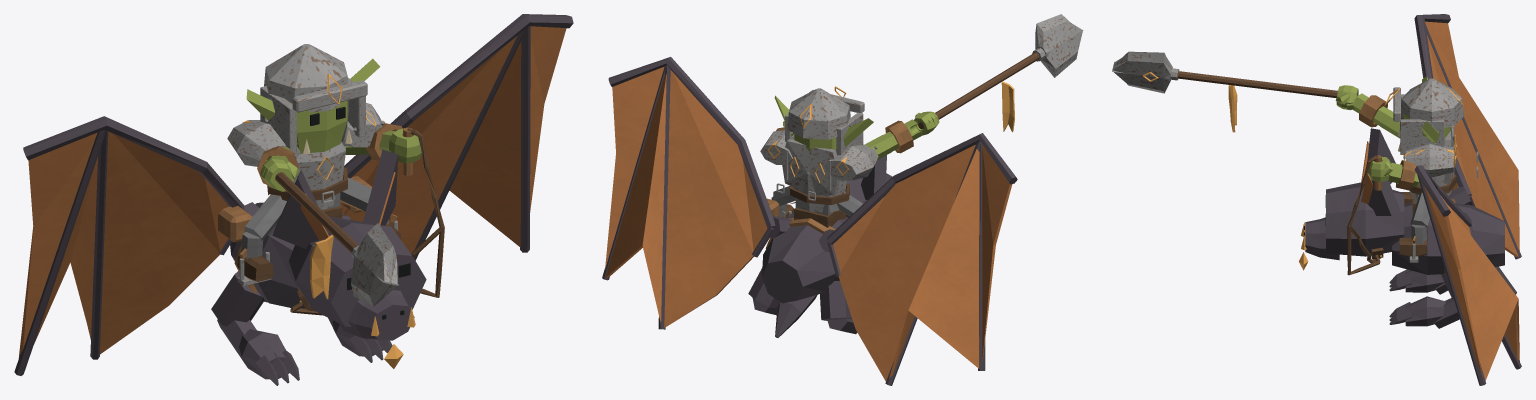
Rendered from host_42.glb.
The picture shows the model from 3 angles, left to right: view 1: azimuth 30°, elevation 25°; view 2: azimuth 150°, elevation 25°; view 3: azimuth 270°, elevation 25°; orthographic projection. The views are drawn at different scales.
Parts seen in each view (by area): view 1: Bat source connected muzzle, skull, native limbs and membran, Rider one connected body, skull, ears, two arms, compact pal, Rider actual source eight-plane pointed helmet, Rider long forward lance tip real volumetric blade, Rider real shaped source torso clothing shell, Rider actual convex three-plane source pauldron 1, Rider actual continuous source forehead brow band, Rider flat helmet cheek edge 1, Rider full long forward lance handle, Source actual orange lance pennant, Rider compact source saddle pouch 1, Rider connected bridle rein 1 (+5 smaller); view 2: Bat source connected muzzle, skull, native limbs and membran, Rider one connected body, skull, ears, two arms, compact pal, Rider actual source eight-plane pointed helmet, Rider long forward lance tip real volumetric blade, Rider actual source broad rear leather pack, Rider actual convex three-plane source pauldron 1, Rider full long forward lance handle, Rider actual convex three-plane source pauldron -1, Rider real shaped source torso clothing shell, Source actual orange lance pennant, Rider flat helmet cheek edge 1, Rider real narrow closed angular source waist belt (+2 smaller); view 3: Bat source connected muzzle, skull, native limbs and membran, Rider one connected body, skull, ears, two arms, compact pal, Rider actual source eight-plane pointed helmet, Rider long forward lance tip real volumetric blade, Rider full long forward lance handle, Rider actual convex three-plane source pauldron -1, Rider flat helmet cheek edge -1, Rider RIGHT actual open sleeve cuff, Rider connected bridle rein -1, Rider LEFT actual open sleeve cuff, Rider connected bridle rein 1.
Boxes of the visible parts, x1,y1,x2,y2 form: Bat source connected muzzle, skull, native limbs and membran: (14, 14, 573, 385); Rider one connected body, skull, ears, two arms, compact pal: (237, 58, 421, 281); Rider actual source eight-plane pointed helmet: (264, 44, 348, 112); Rider long forward lance tip real volumetric blade: (351, 223, 398, 306); Rider real shaped source torso clothing shell: (293, 140, 345, 210); Rider actual convex three-plane source pauldron 1: (227, 120, 300, 166); Rider actual continuous source forehead brow band: (292, 80, 367, 112); Rider flat helmet cheek edge 1: (260, 86, 296, 153); Rider full long forward lance handle: (275, 172, 358, 252); Source actual orange lance pennant: (310, 235, 333, 299); Rider compact source saddle pouch 1: (218, 206, 252, 242); Rider connected bridle rein 1: (290, 127, 443, 315); Bat source connected muzzle, skull, native limbs and membran: (602, 57, 1017, 385); Rider one connected body, skull, ears, two arms, compact pal: (771, 95, 939, 218); Rider actual source eight-plane pointed helmet: (787, 88, 850, 139); Rider long forward lance tip real volumetric blade: (1035, 14, 1083, 77); Rider actual source broad rear leather pack: (782, 138, 839, 195); Rider actual convex three-plane source pauldron 1: (824, 144, 878, 180); Rider full long forward lance handle: (918, 52, 1039, 129); Rider actual convex three-plane source pauldron -1: (760, 130, 794, 164); Rider real shaped source torso clothing shell: (794, 172, 846, 212); Source actual orange lance pennant: (1001, 81, 1014, 132); Rider flat helmet cheek edge 1: (836, 112, 863, 155); Rider real narrow closed angular source waist belt: (790, 183, 849, 204); Bat source connected muzzle, skull, native limbs and membran: (1305, 14, 1521, 385); Rider one connected body, skull, ears, two arms, compact pal: (1335, 76, 1450, 256); Rider actual source eight-plane pointed helmet: (1401, 78, 1464, 128); Rider long forward lance tip real volumetric blade: (1112, 51, 1172, 93); Rider full long forward lance handle: (1177, 71, 1357, 97); Rider actual convex three-plane source pauldron -1: (1405, 143, 1453, 177); Rider flat helmet cheek edge -1: (1400, 119, 1444, 154); Rider RIGHT actual open sleeve cuff: (1359, 95, 1387, 127); Rider connected bridle rein -1: (1347, 204, 1380, 275); Rider LEFT actual open sleeve cuff: (1396, 160, 1416, 190); Rider connected bridle rein 1: (1350, 155, 1378, 263).
Bounding box in the file's own units: 5.53 × 3.06 × 4.87.
28 materials, 26 textured.
